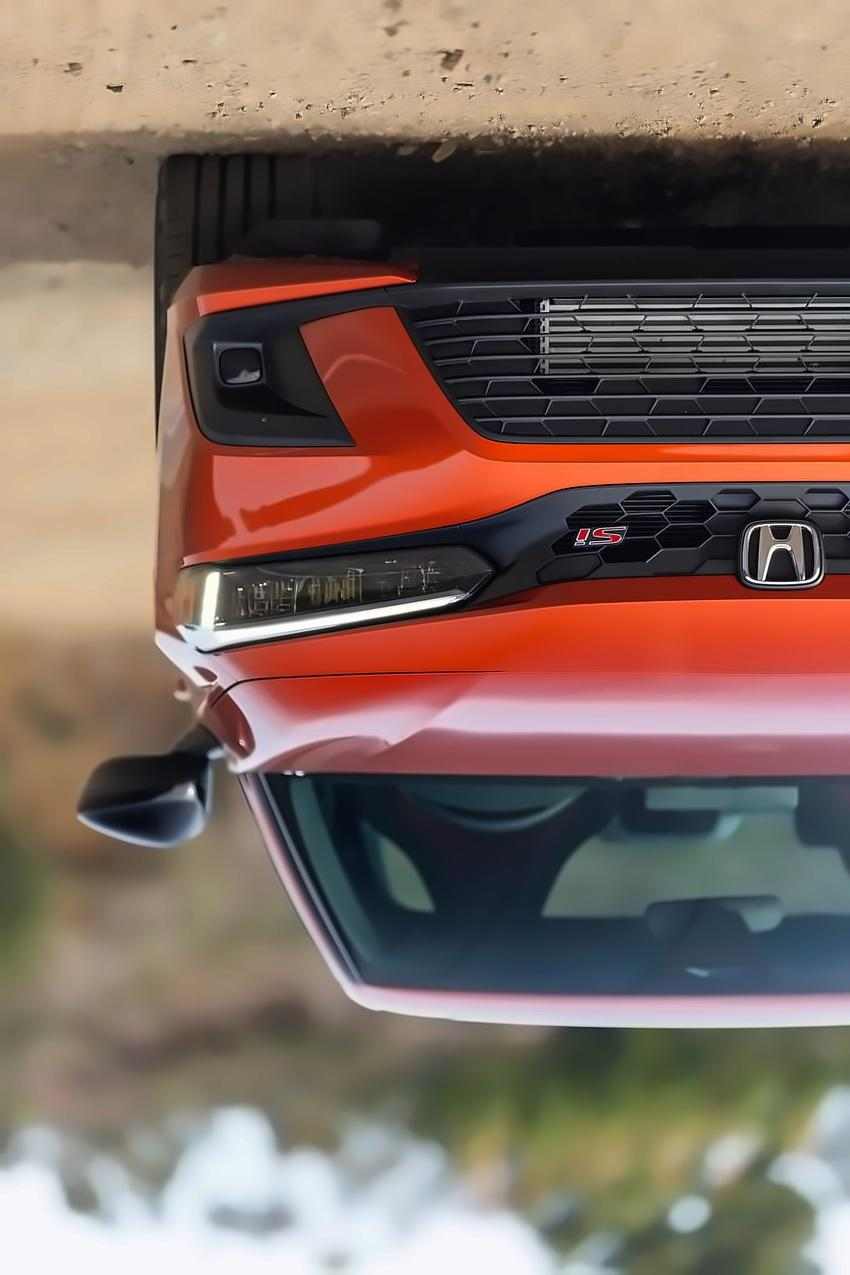Car hood: (202, 664, 850, 782)
Front bumper: (144, 234, 850, 564)
Headlight - -L-: (156, 540, 501, 662)
Side mirror - -L-: (62, 726, 236, 855)
